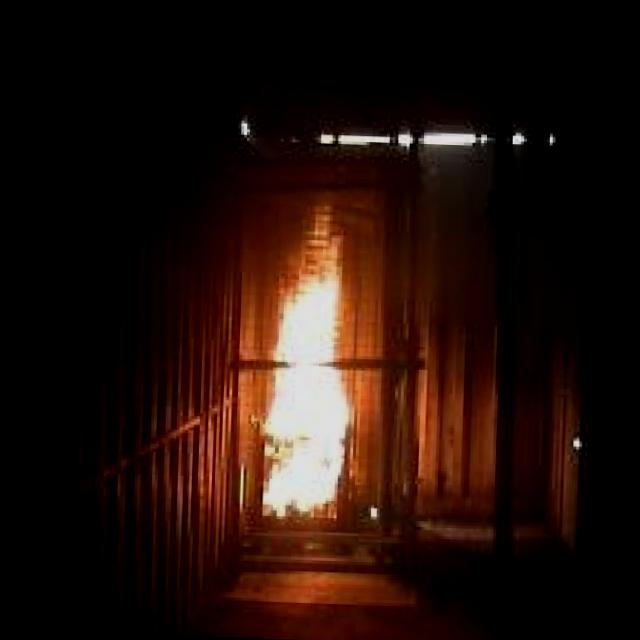fire: (230, 196, 368, 514)
